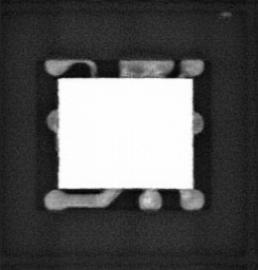DIE_INK: (220, 8, 233, 18)
